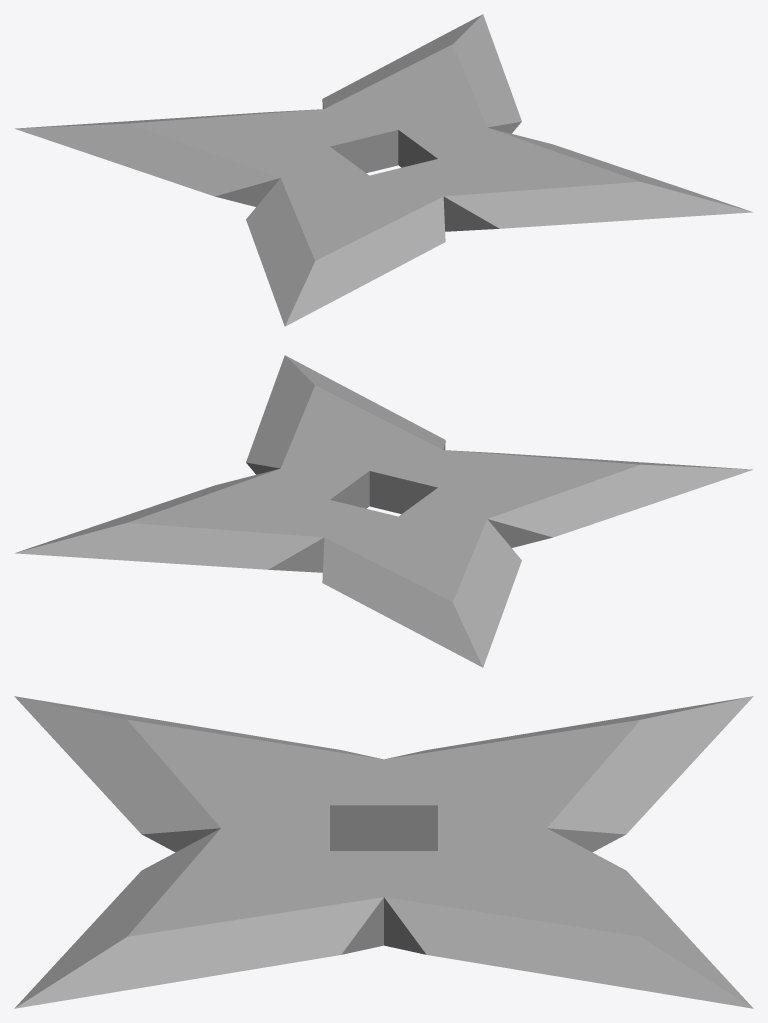
Rendered from Straight 4 Point Shuriken - Textured Low Poly Asian Weapon Pack by Kickin It Studios.fbx.
3 renders of one model, top to bottom at view 1: azimuth 30°, elevation 25°; view 2: azimuth 150°, elevation 25°; view 3: azimuth 270°, elevation 25°, orthographic. The views are drawn at different scales.
Parts seen in each view (by area): view 1: Straight 4 Point Shuriken; view 2: Straight 4 Point Shuriken; view 3: Straight 4 Point Shuriken.
Boxes of the visible parts, x1,y1,x2,y2 form: Straight 4 Point Shuriken: [15, 14, 752, 326]; Straight 4 Point Shuriken: [15, 355, 752, 667]; Straight 4 Point Shuriken: [14, 696, 753, 1008].
Bounding box in the file's own units: 84.05 × 6.08 × 84.05.
